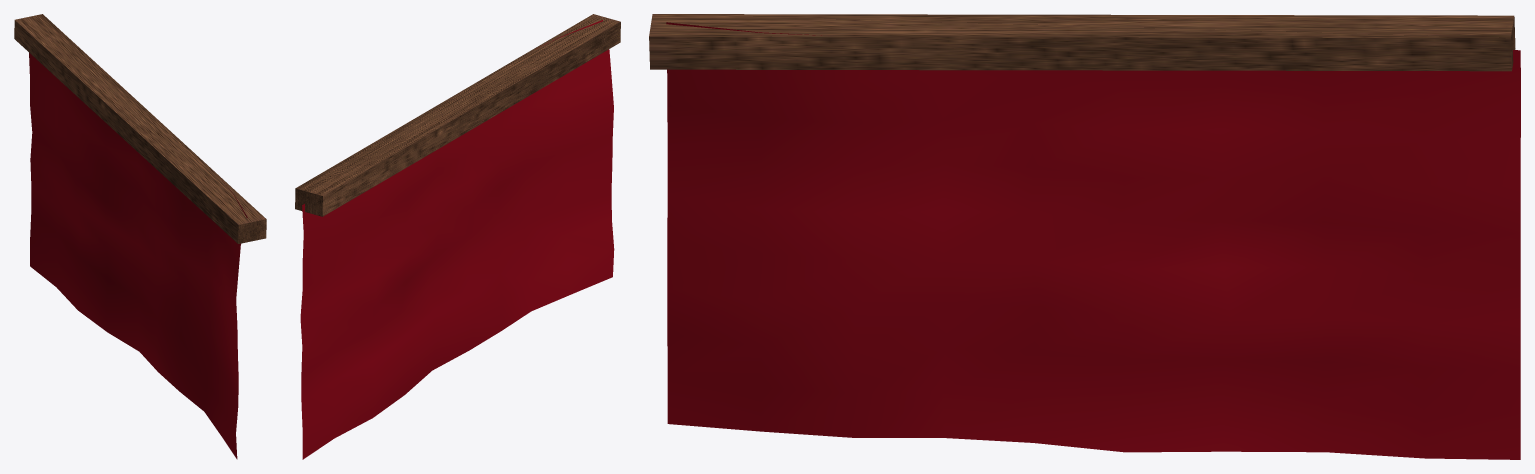
The model's file is Cortina02_Fondo.fbx.
The picture shows the model from 3 angles, left to right: view 1: azimuth 30°, elevation 25°; view 2: azimuth 150°, elevation 25°; view 3: azimuth 270°, elevation 25°; orthographic projection. The views are drawn at different scales.
Visible parts, largest first — view 1: Plane.010, Cube.008; view 2: Plane.010, Cube.008; view 3: Plane.010, Cube.008.
Boxes of the visible parts, x1=… form: Plane.010: x1=29, y1=53, x2=247, y2=459; Cube.008: x1=14, y1=14, x2=266, y2=243; Plane.010: x1=300, y1=20, x2=614, y2=459; Cube.008: x1=295, y1=14, x2=620, y2=216; Plane.010: x1=666, y1=22, x2=1520, y2=459; Cube.008: x1=649, y1=14, x2=1515, y2=71.
Size of the model in its own units: 253 by 1093 by 2008.
Materials: 2 (1 with a texture image).
